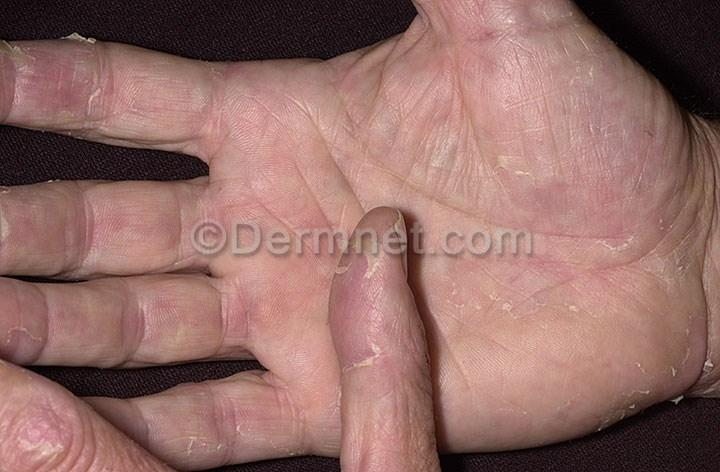Eczema: (307, 58, 489, 207), (482, 20, 623, 163), (620, 78, 720, 272), (140, 60, 310, 160), (336, 348, 445, 466), (524, 154, 626, 277), (1, 180, 122, 279), (2, 40, 148, 122), (124, 267, 258, 348), (120, 188, 238, 277), (239, 161, 346, 259), (122, 387, 236, 472), (239, 370, 343, 452), (254, 252, 338, 347), (0, 276, 104, 352), (320, 236, 392, 334)
